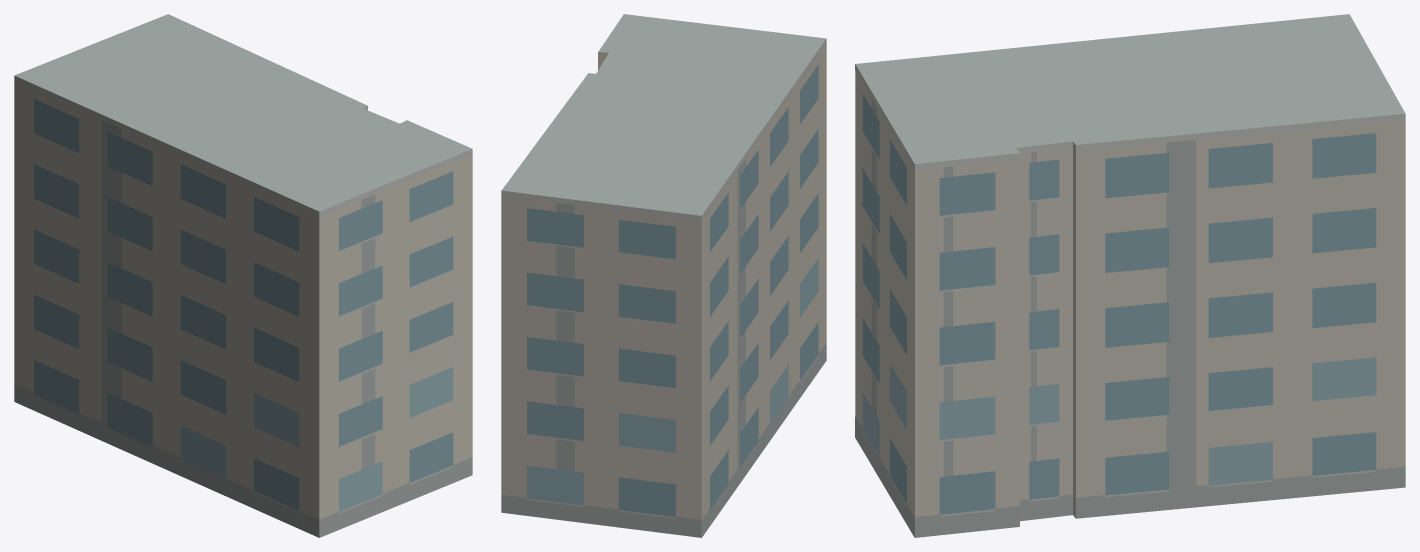
Rendered from survey-upis-32806869.glb.
3 renders of one model, left to right at view 1: azimuth 30°, elevation 25°; view 2: azimuth 150°, elevation 25°; view 3: azimuth 270°, elevation 25°, orthographic. The views are drawn at different scales.
Visible parts, largest first — view 1: survey-upis-32806869.tmp; view 2: survey-upis-32806869.tmp; view 3: survey-upis-32806869.tmp.
Part boxes in pixels (x1=…): survey-upis-32806869.tmp: x1=14, y1=14, x2=472, y2=537; survey-upis-32806869.tmp: x1=501, y1=14, x2=826, y2=537; survey-upis-32806869.tmp: x1=855, y1=14, x2=1405, y2=537.
Size of the model in its own units: 12.59 by 14.6 by 19.5.
